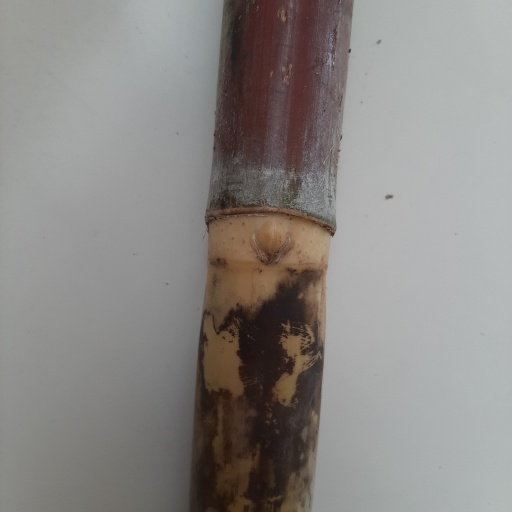Bud: (252, 215, 293, 263)
